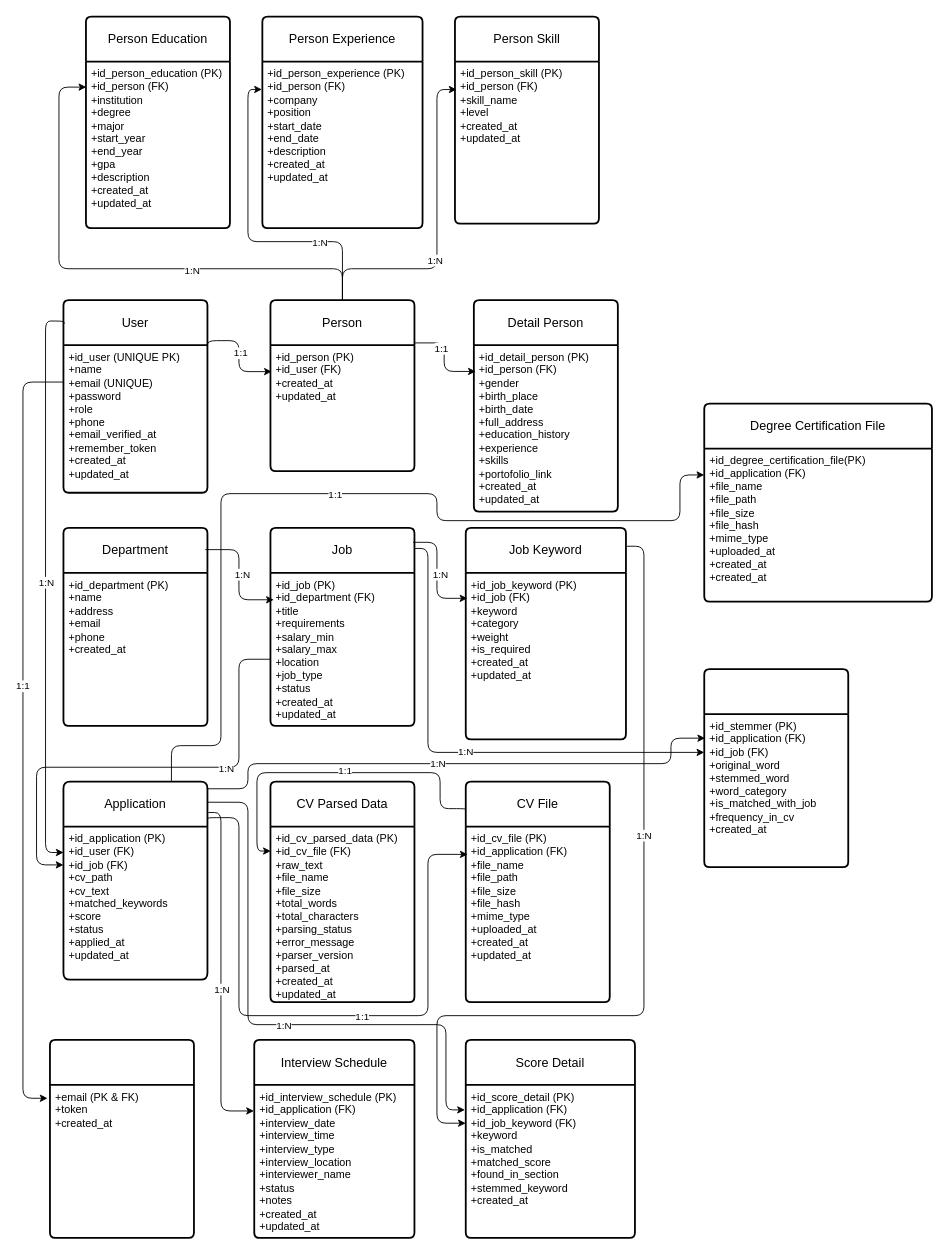
Image size: 948x1254. Some labels were removed from this diagram. Here are the shapes that lost their labels. From the top down, the box of each, then its label:
(703, 668, 849, 868): Data Stemmer
(49, 1039, 194, 1238): Password Reset Token
